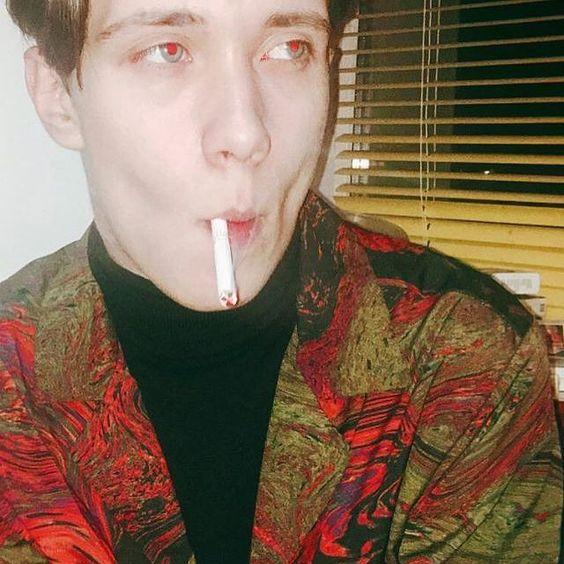cigarette: (210, 218, 238, 307)
